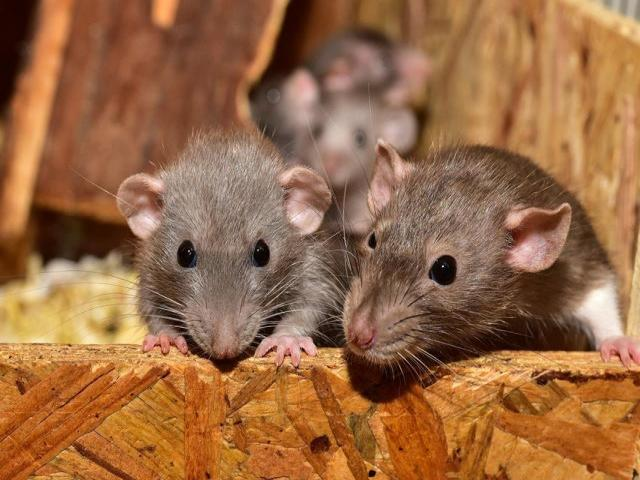Tikus: (354, 139, 637, 368), (120, 127, 347, 366)
